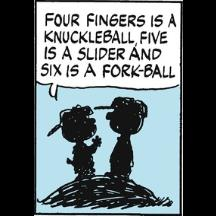charlie: (105, 95, 148, 182)
